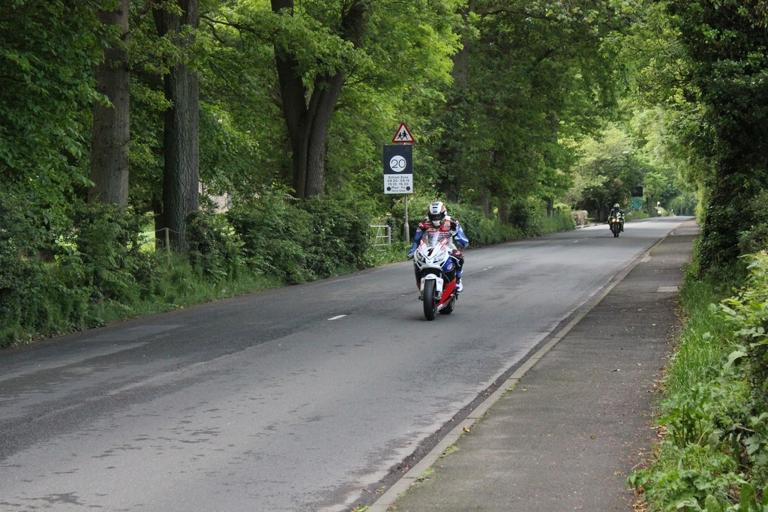non-vehicle: (406, 218, 463, 319), (607, 210, 624, 236)
